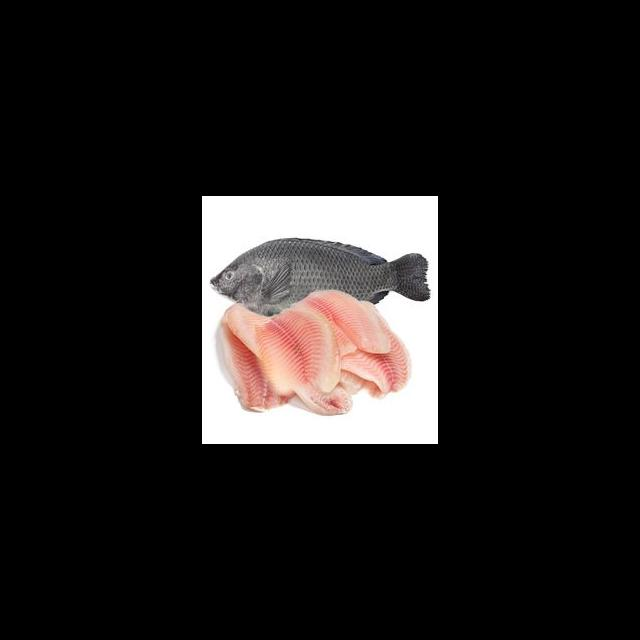fish: (255, 306, 339, 399)
